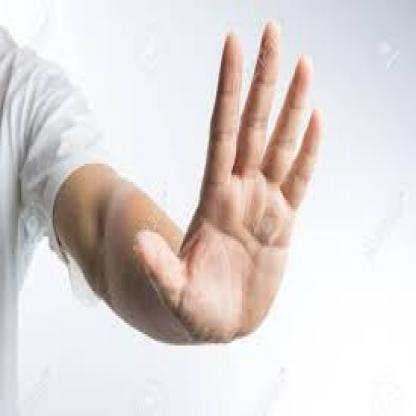stop: (130, 17, 327, 348)
